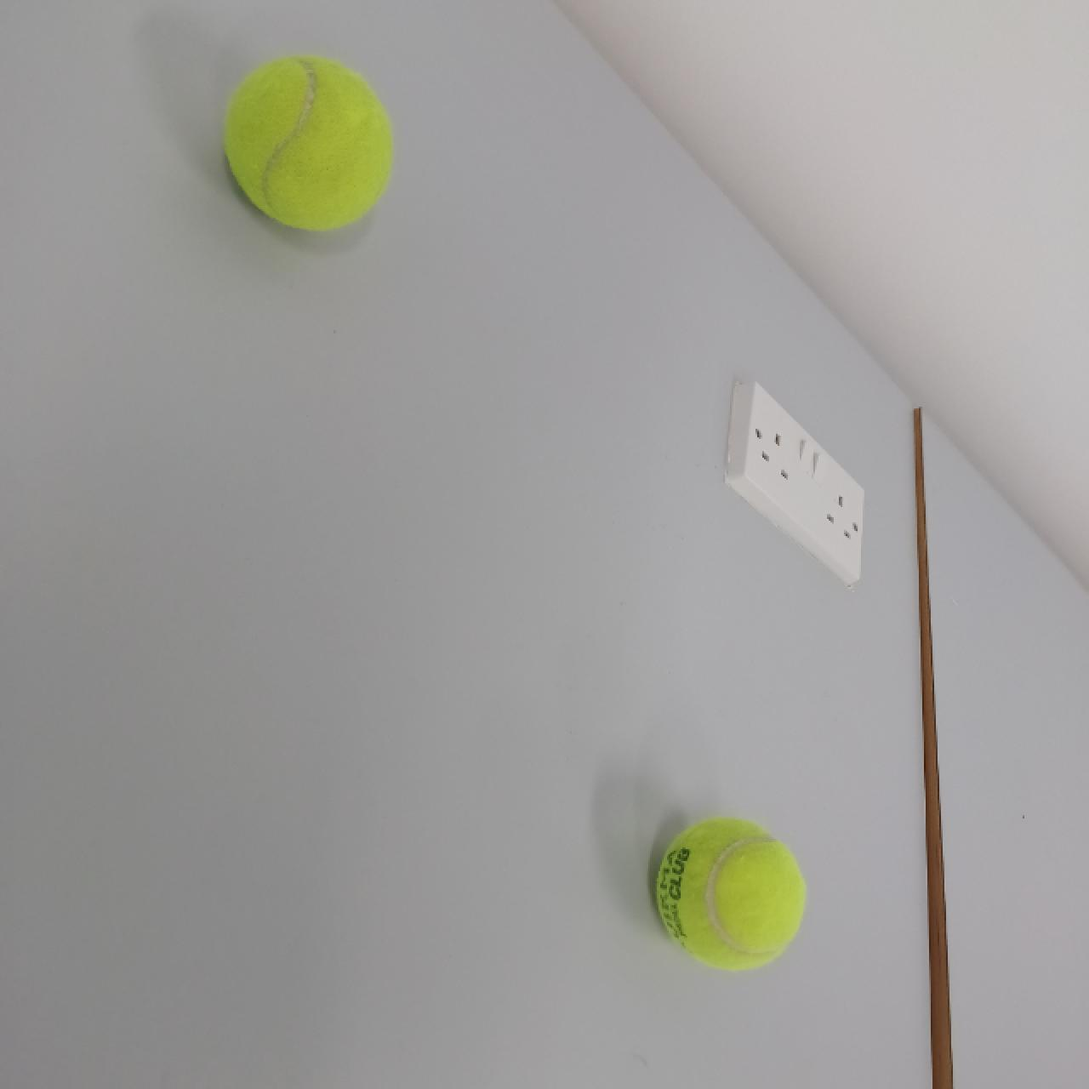tennis-ball: (221, 54, 399, 232), (648, 815, 806, 970)
